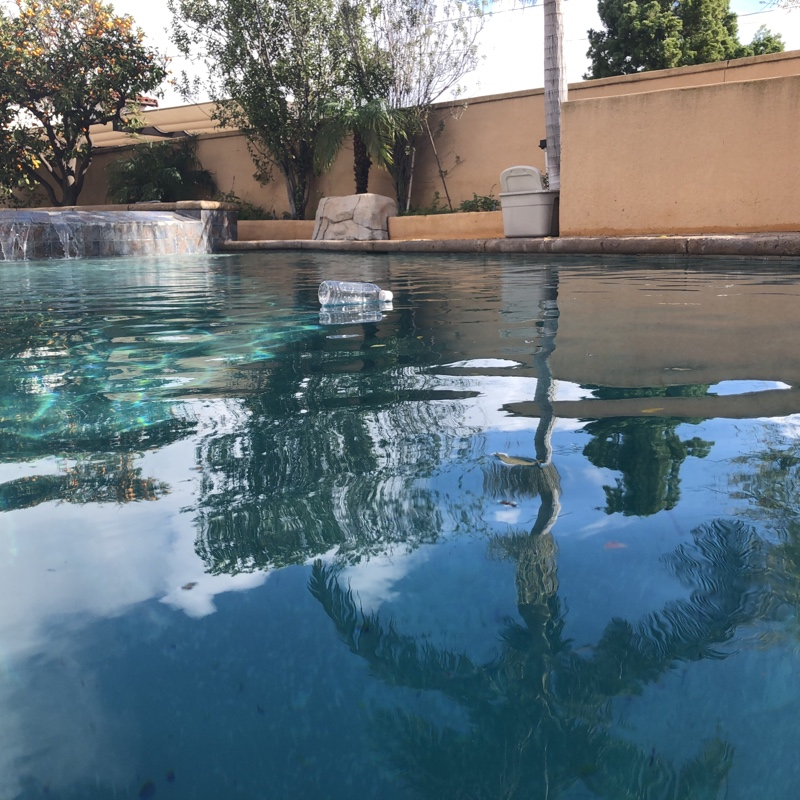Plastic Bottle: (316, 277, 395, 309)
